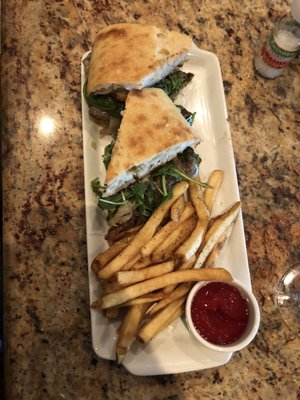soup: (102, 88, 203, 200), (83, 23, 195, 120)
